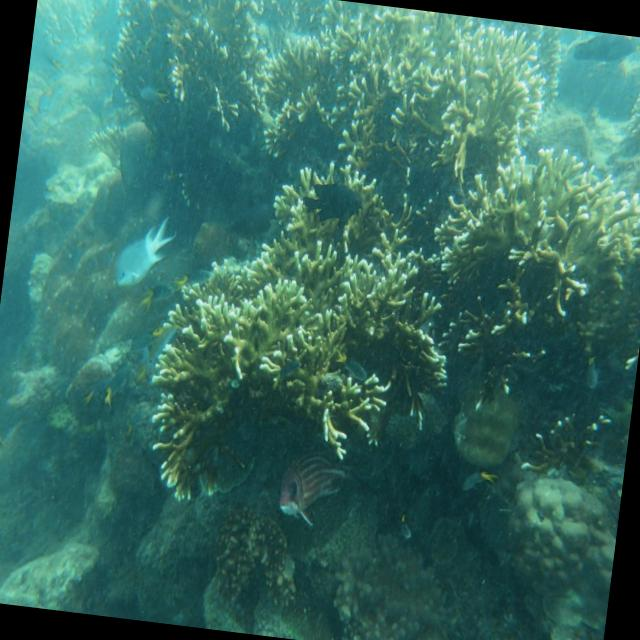Asker Baligi: (258, 428, 360, 542)
